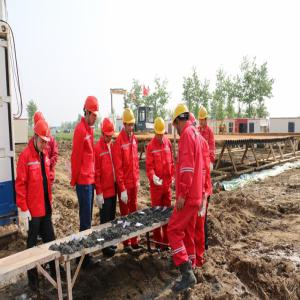red: (34, 121, 50, 152), (83, 97, 99, 127), (102, 118, 116, 144)
yellow: (174, 105, 190, 134), (123, 109, 136, 136), (155, 119, 167, 141), (199, 108, 209, 129)
